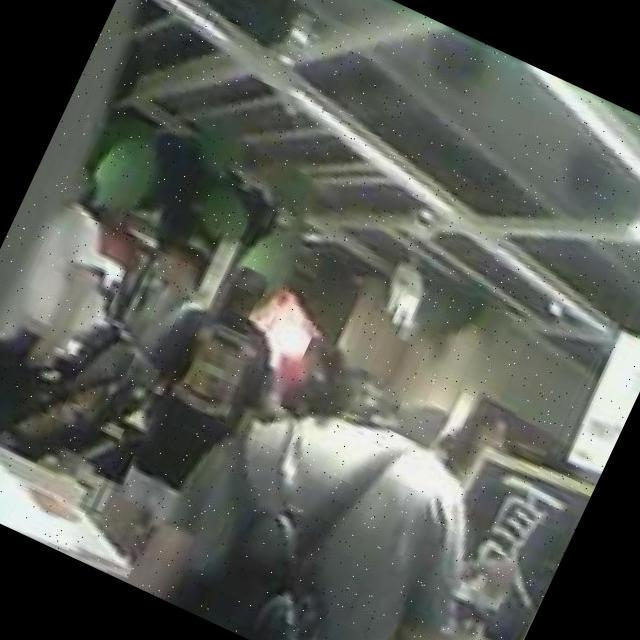person: (125, 325, 562, 640), (81, 246, 310, 564), (19, 206, 223, 489), (0, 164, 138, 439), (261, 328, 369, 442)
